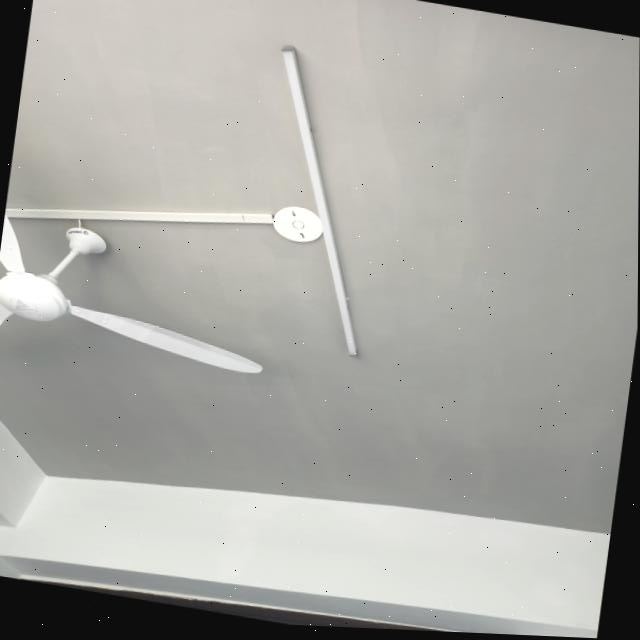fluorescent tube: (238, 42, 413, 370)
